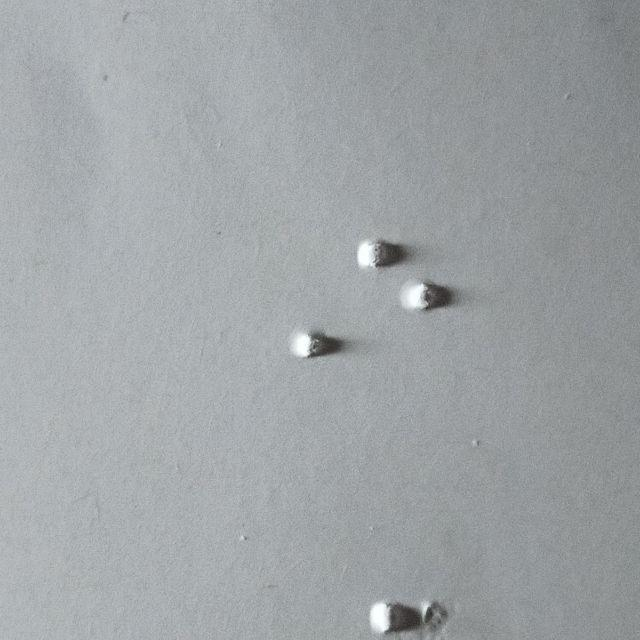E: (356, 235, 448, 355)
capital: (237, 240, 329, 360)
